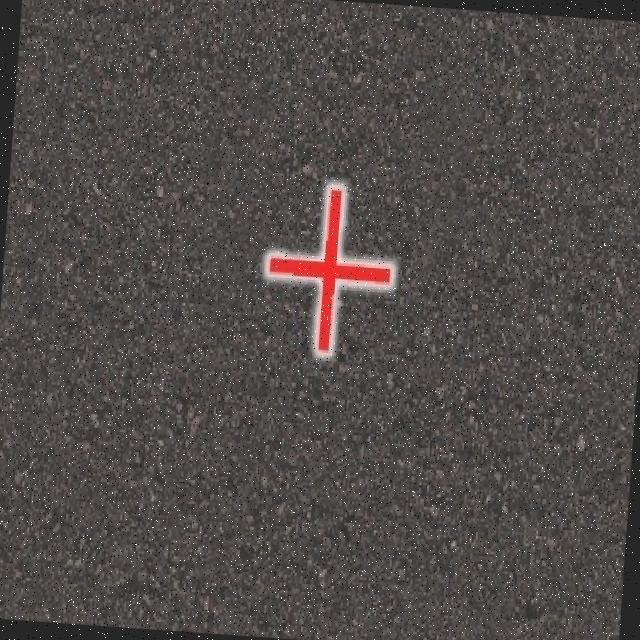x_marker: (261, 182, 396, 356)
